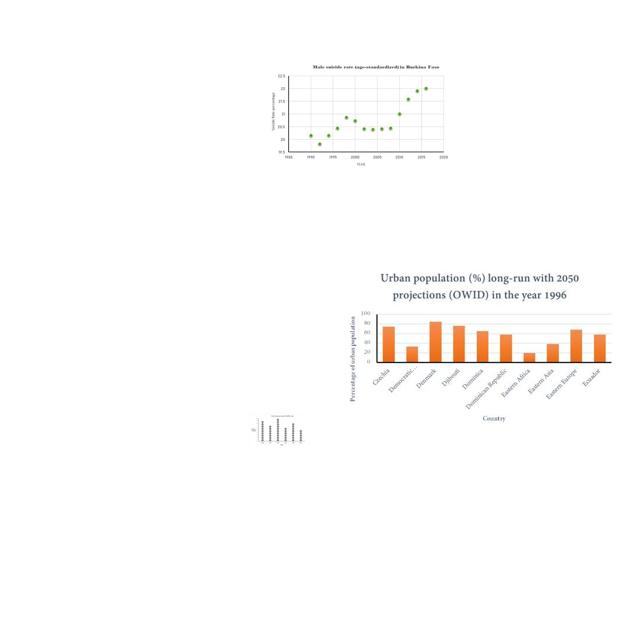Graph: (345, 269, 615, 427), (269, 64, 449, 168), (249, 414, 306, 447)
